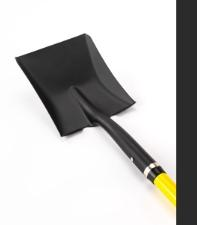PELLE: (9, 13, 197, 205)
